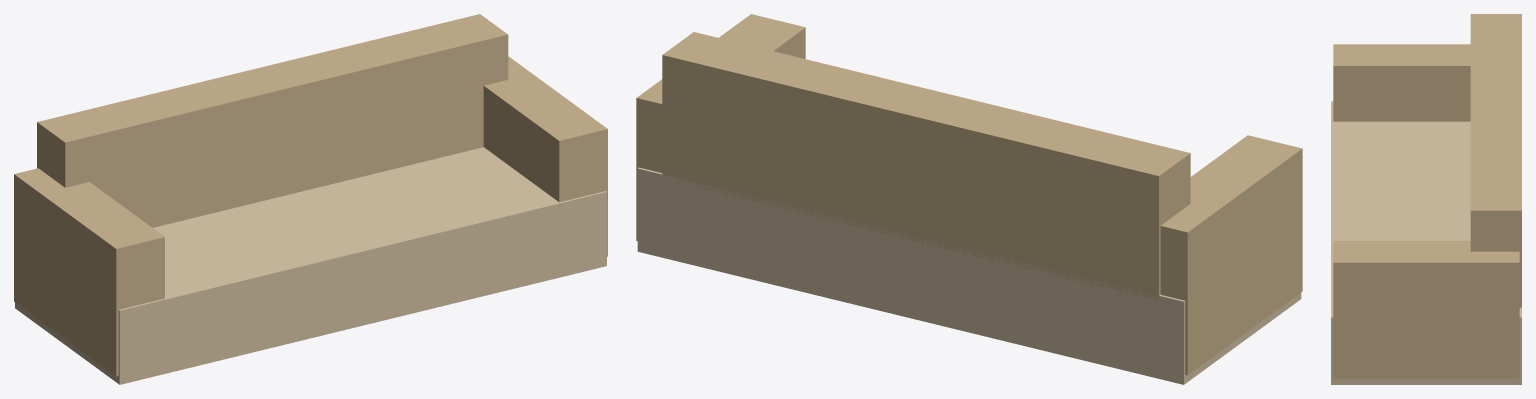
Rendered from sofa.glb.
3 renders of one model, left to right at view 1: azimuth 30°, elevation 25°; view 2: azimuth 150°, elevation 25°; view 3: azimuth 270°, elevation 25°, orthographic. The views are drawn at different scales.
Bounding box in the file's own units: 2.22 × 0.78 × 0.82.
